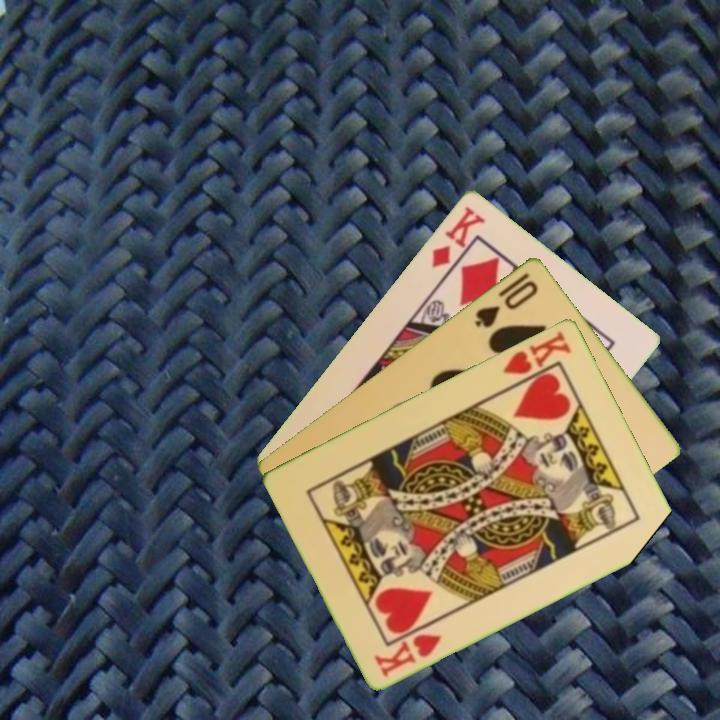10s: (471, 268, 542, 331)
Kd: (427, 201, 488, 270)
Kh: (499, 327, 575, 390), (370, 629, 445, 680)
